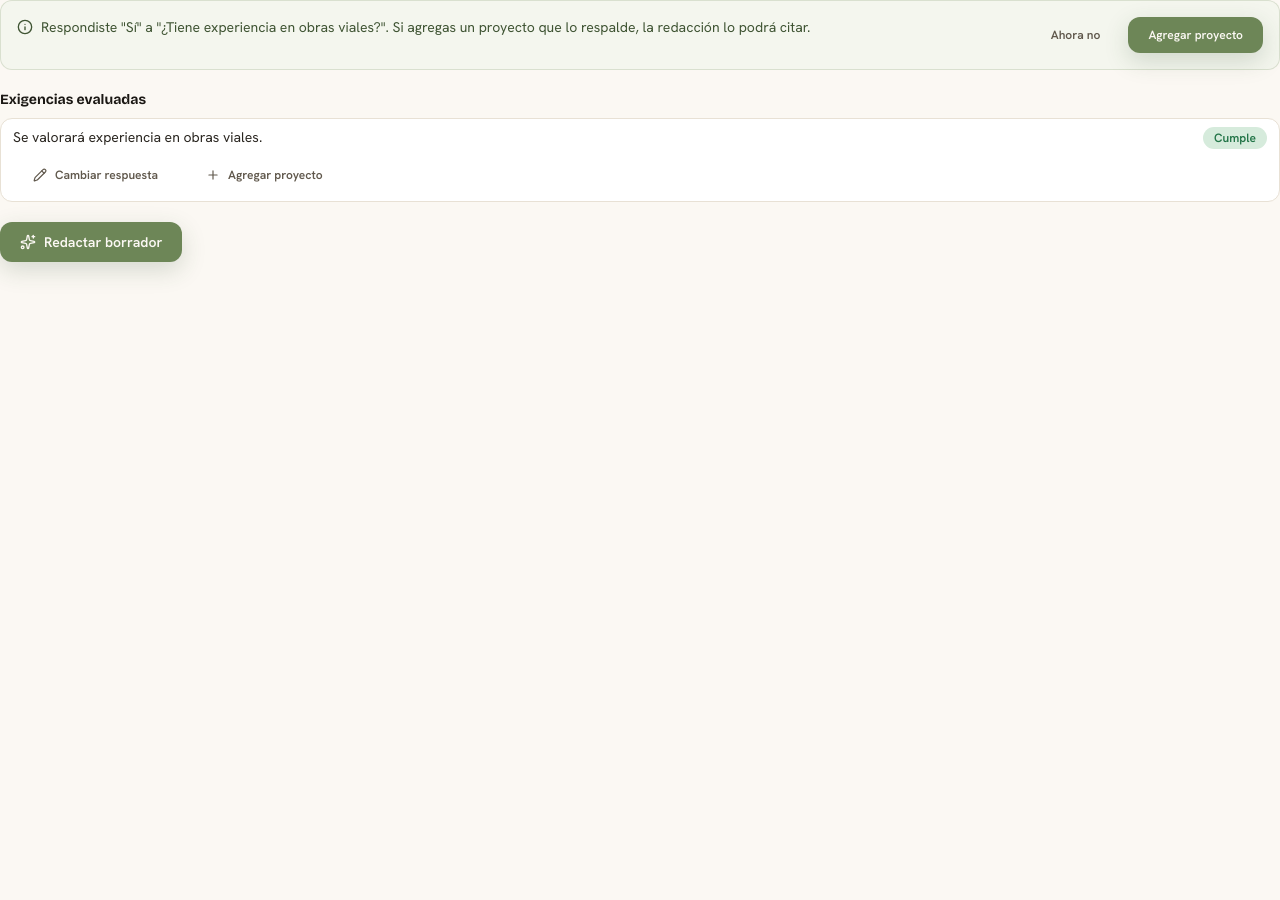
FeasibilityStep: proyectos de experiencia › justo después de un Sí sugiere agregar el proyecto, sin obligar
Expected: the message named "Agregar un proyecto" shows "¿Tiene experiencia en obras viales?", [161,18,381,36]
Click the button "Ahora no": point(1076, 35) [1031,17,1120,53]
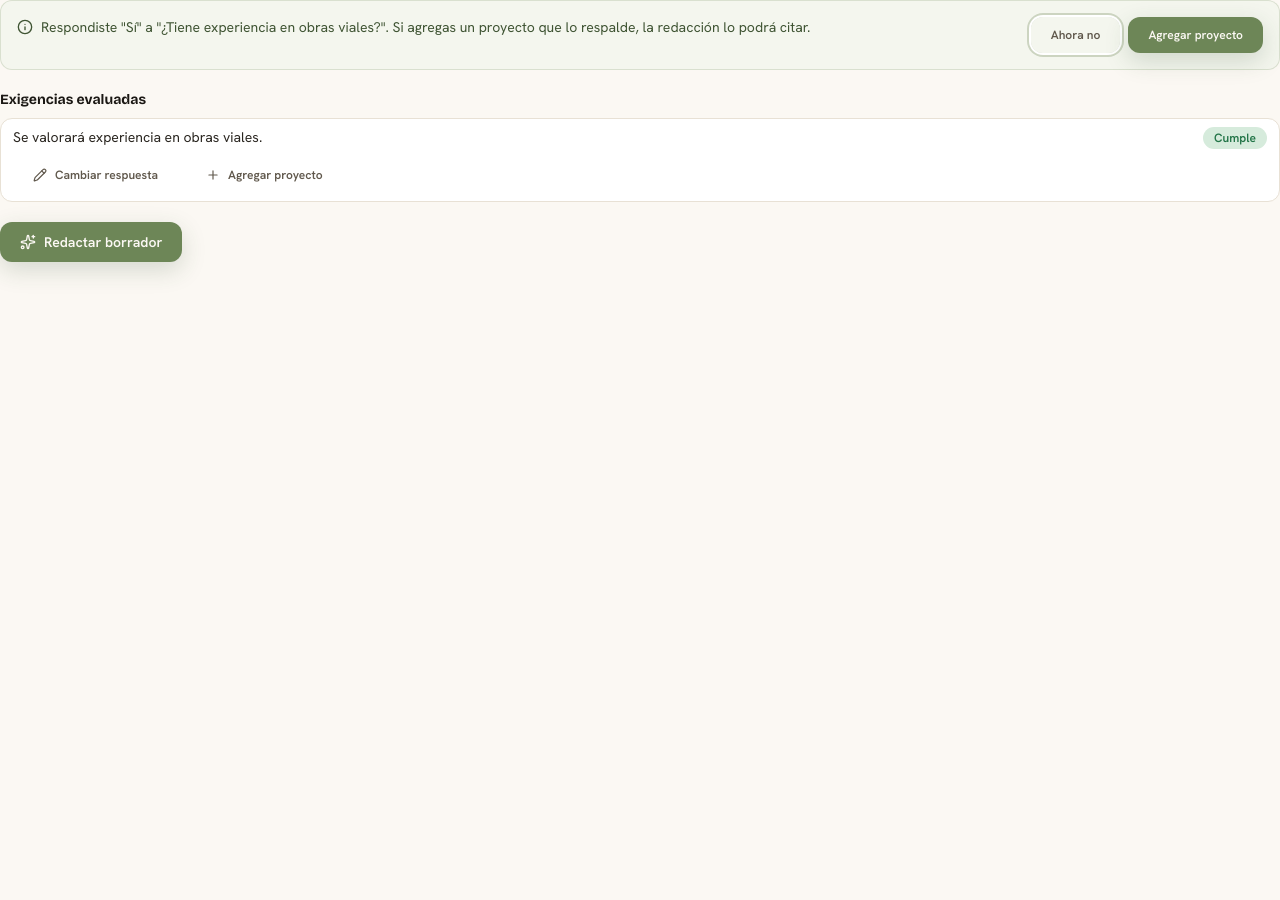
Click the button "Agregar proyecto" in the row of "¿Tiene experiencia en obras viales?": point(1196, 35) [1128,17,1263,53]
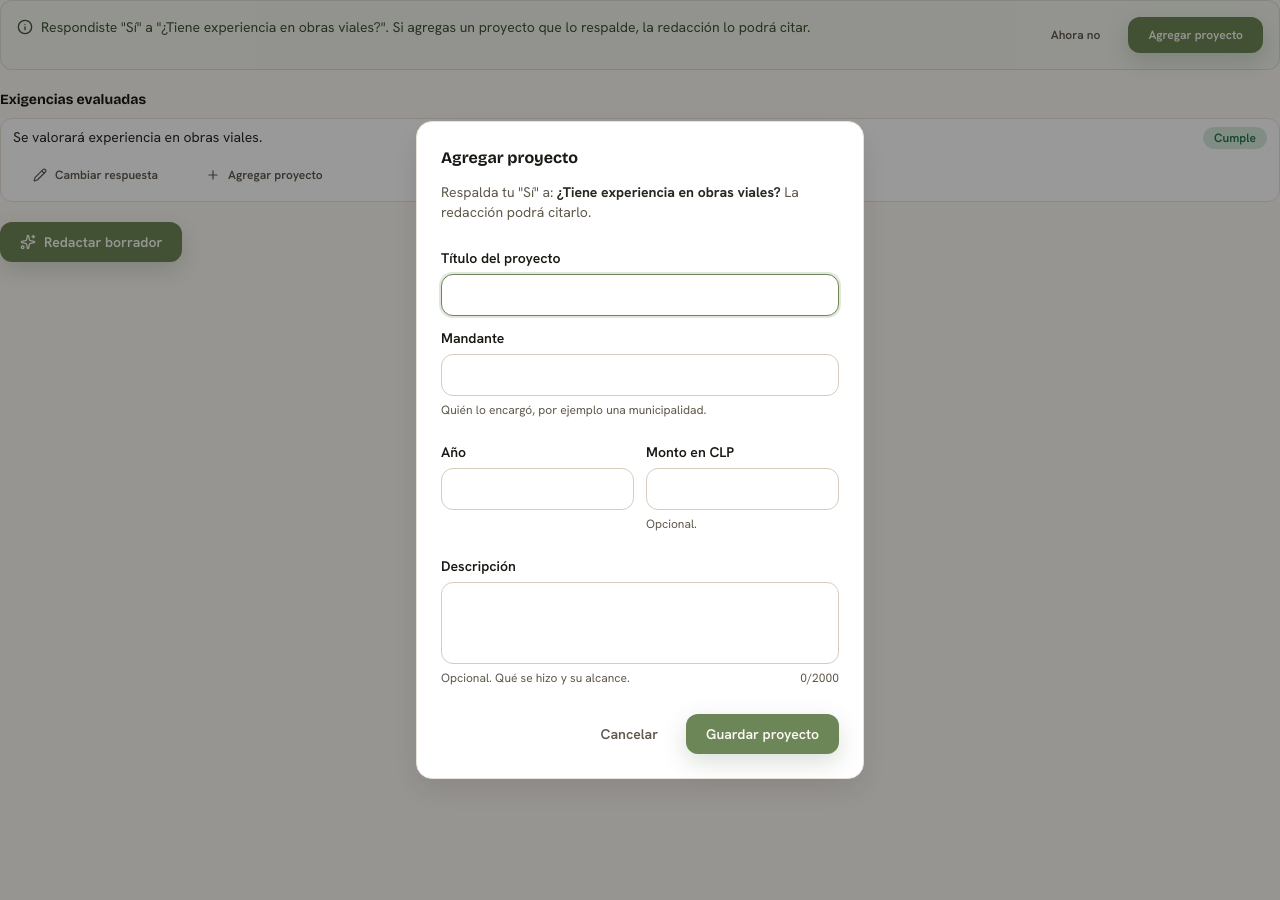
Now the dialog "Agregar proyecto" is shown, box [416,121,864,779]
